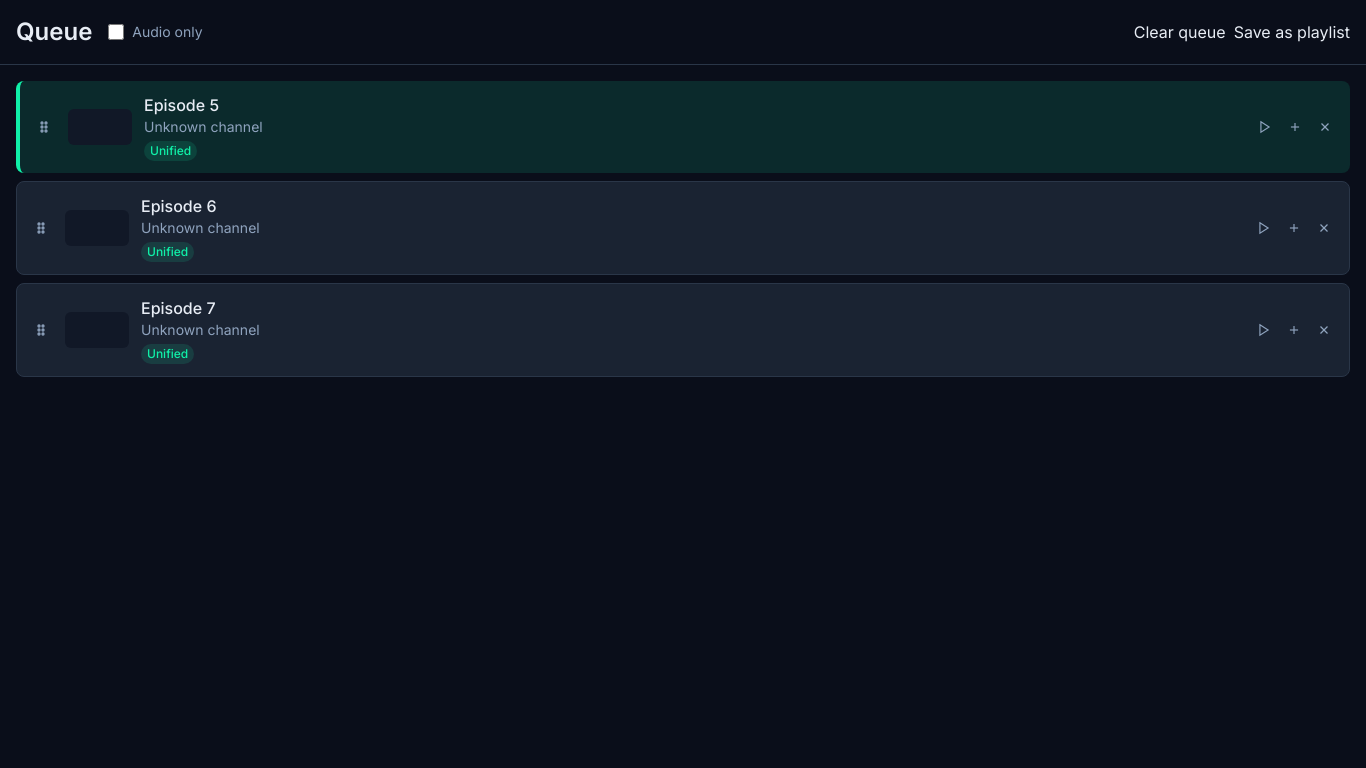
QueueScreen clear-queue confirmation (F05-H1 step 5) › Confirm clears the queue and closes the dialog
What coordinates should you click on to do the following:
click the button "Clear queue"
I would click on:
 (1180, 32)
Its box is [1134,20,1226,44].
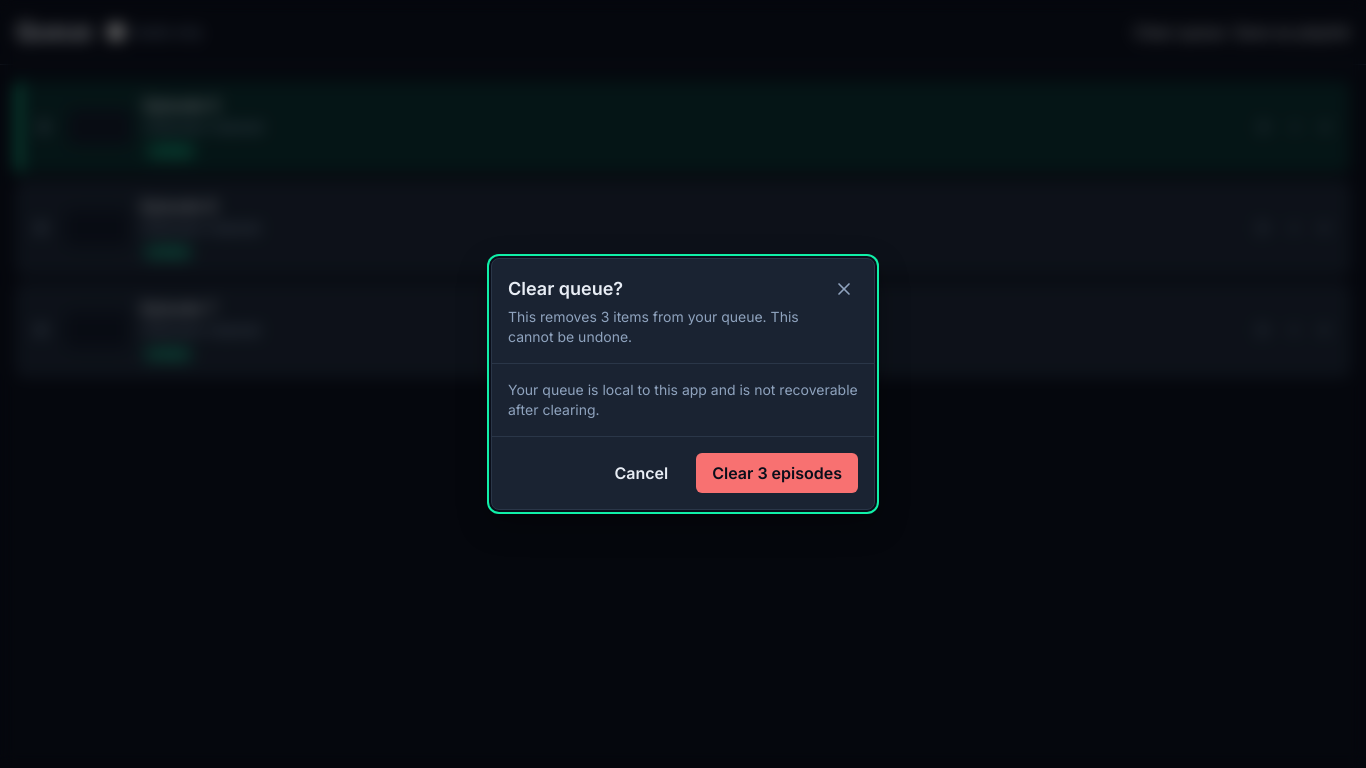
What coordinates should you click on to do the following:
click the button "Clear 3 episodes"
I would click on:
 (777, 473)
Its box is [696,453,858,493].
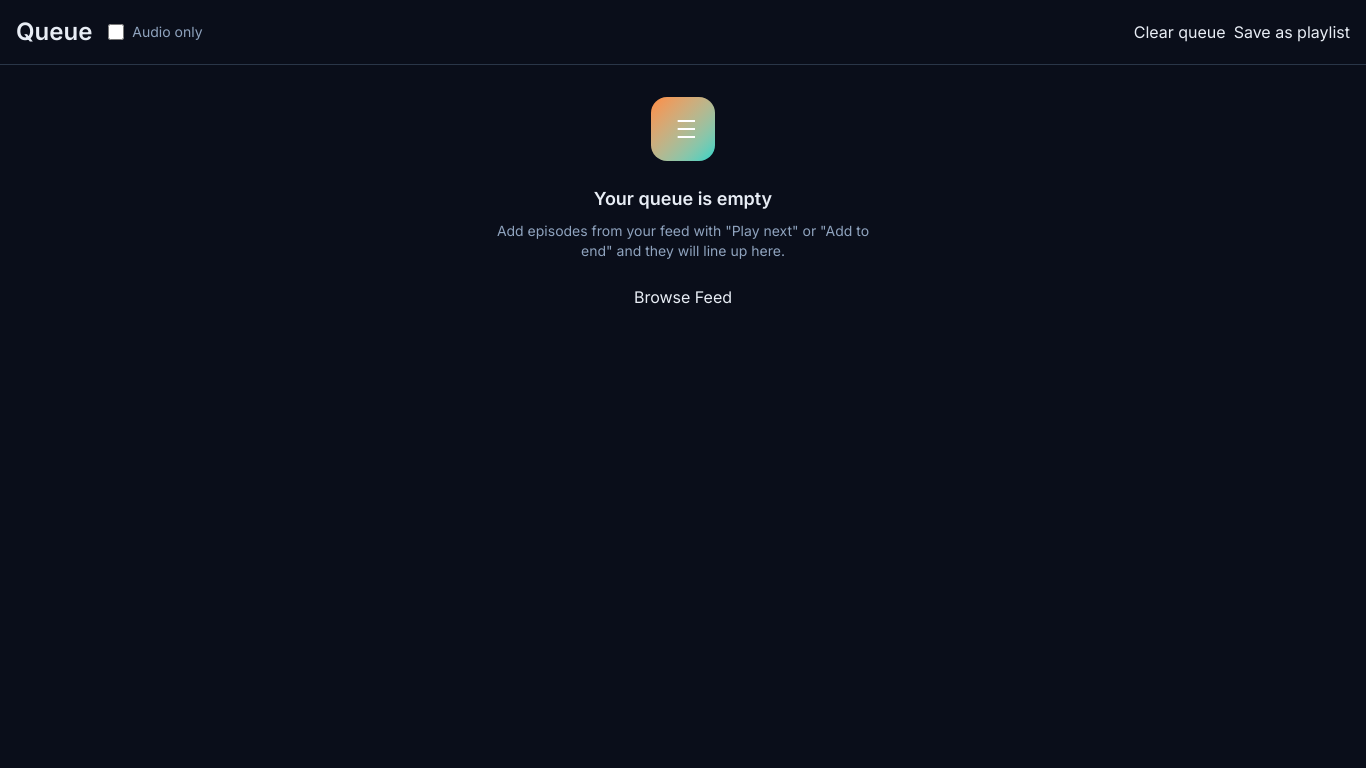
Check: the dialog is gone
